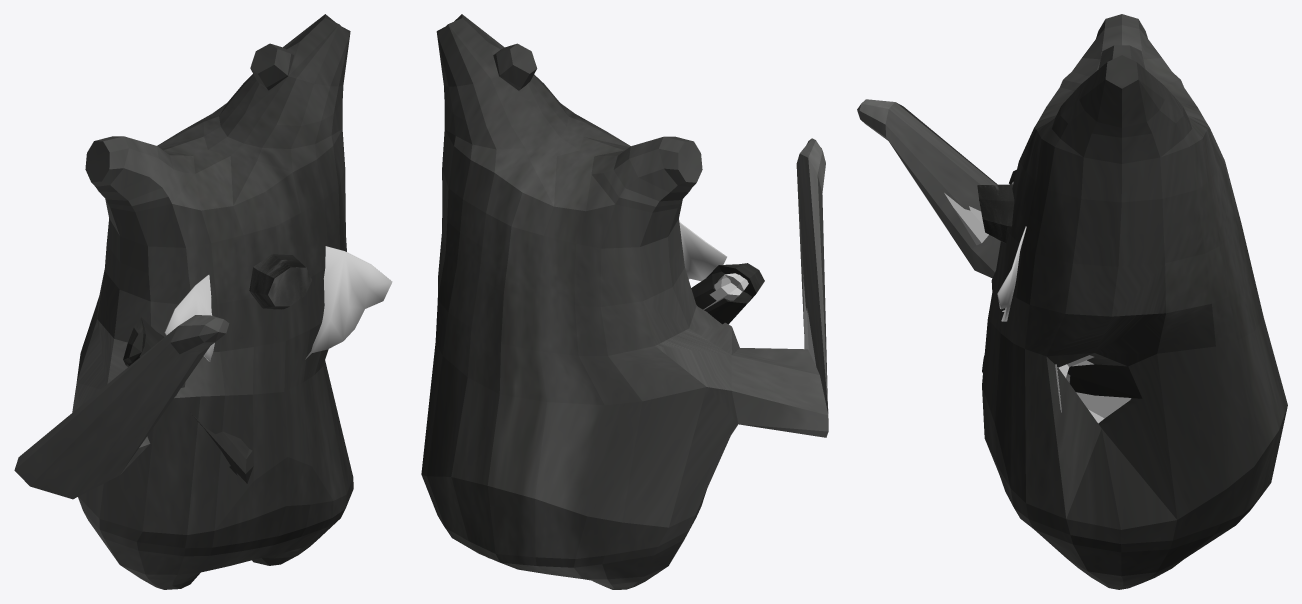
Rendered from frame_0010.obj.
The picture shows the model from 3 angles, left to right: view 1: azimuth 30°, elevation 25°; view 2: azimuth 150°, elevation 25°; view 3: azimuth 270°, elevation 25°; orthographic projection. The views are drawn at different scales.
Parts seen in each view (by area): view 1: korok, leaf, nose; view 2: korok, leaf; view 3: korok, nose, leaf.
Part boxes in pixels (<box>): korok: <box>14,14,353,589</box>; leaf: <box>164,246,392,361</box>; nose: <box>249,253,311,309</box>; korok: <box>421,14,828,589</box>; leaf: <box>679,222,726,281</box>; korok: <box>857,14,1287,589</box>; nose: <box>977,184,1014,243</box>; leaf: <box>997,181,1026,321</box>.
Size of the model in its own units: 1.68 by 2.34 by 1.64.
